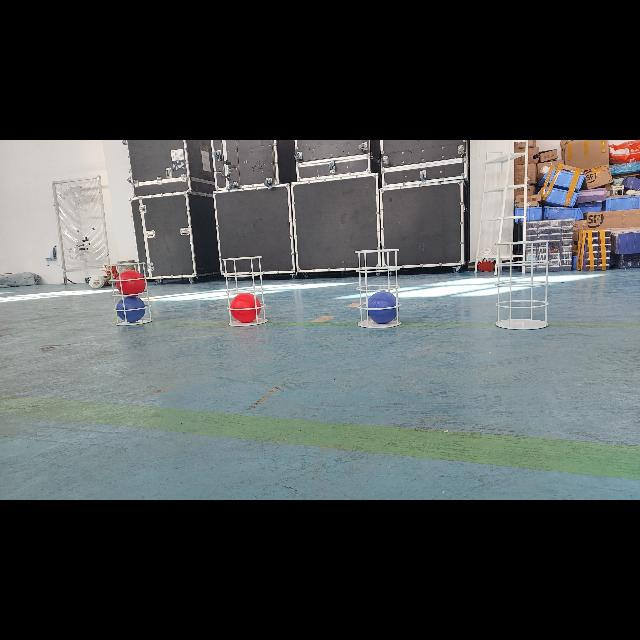B: (364, 291, 400, 323), (116, 296, 146, 322)
R: (229, 292, 261, 322), (116, 270, 146, 296)
S: (493, 236, 557, 332), (349, 245, 405, 328), (216, 256, 270, 328), (106, 260, 154, 328)
